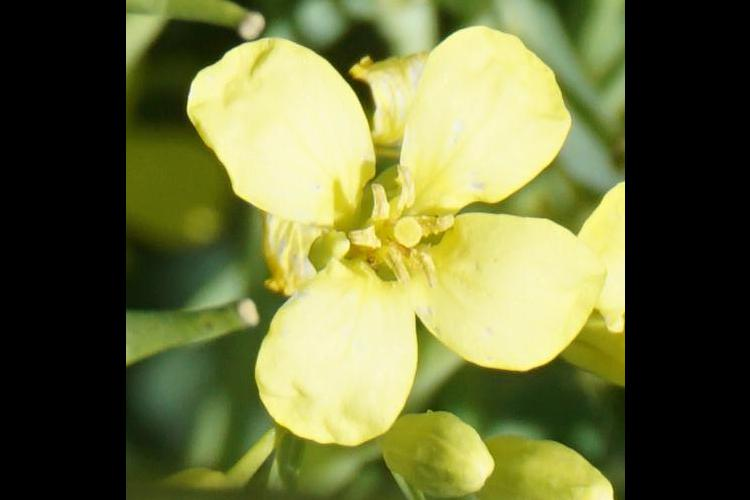bud: (367, 395, 500, 497), (470, 409, 618, 500)
pod: (133, 285, 263, 403), (140, 1, 273, 46)
yellow: (212, 18, 569, 409)
